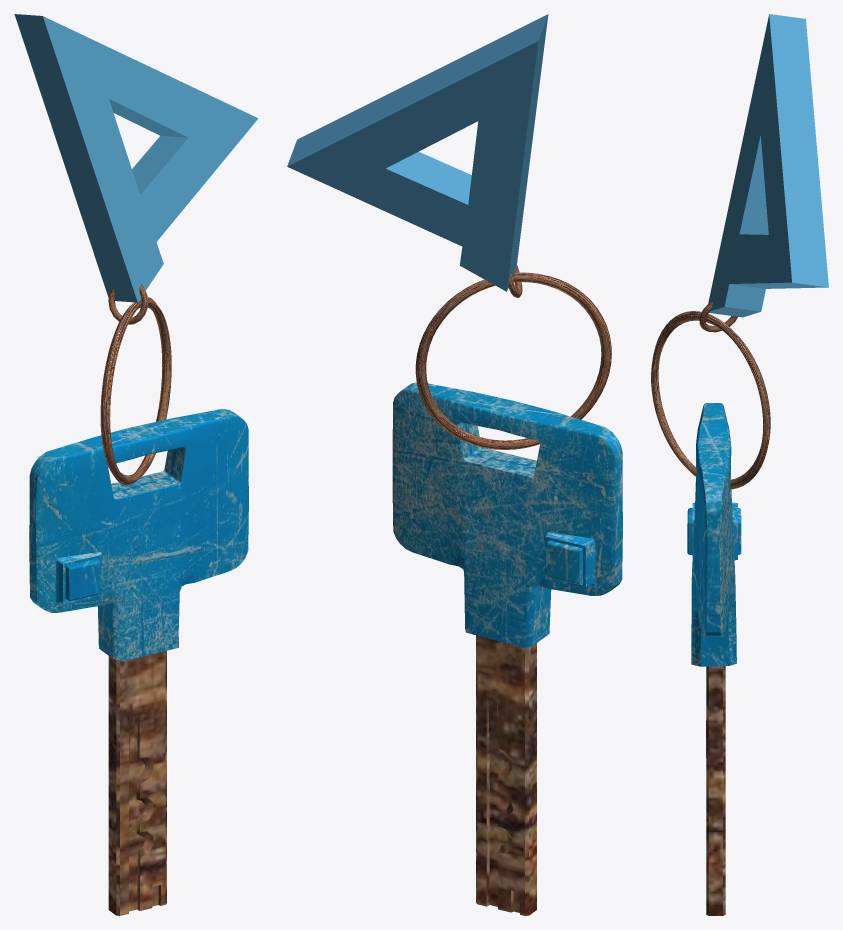
The model's file is llave2.obj.
3 renders of one model, left to right at view 1: azimuth 30°, elevation 25°; view 2: azimuth 150°, elevation 25°; view 3: azimuth 270°, elevation 25°, orthographic. The views are drawn at different scales.
Parts seen in each view (by area): view 1: Torus002; view 2: Torus002; view 3: Torus002.
Boxes of the visible parts, left/top/right/bottom form: Torus002: left=14, top=14, right=258, bottom=915; Torus002: left=287, top=14, right=622, bottom=915; Torus002: left=651, top=14, right=828, bottom=915.
Size of the model in its own units: 0.0649 by 0.2063 by 0.0387.
Materials: 4 (4 with a texture image).
